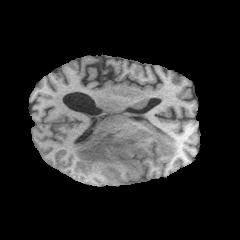glioma: (73, 125, 178, 180)
